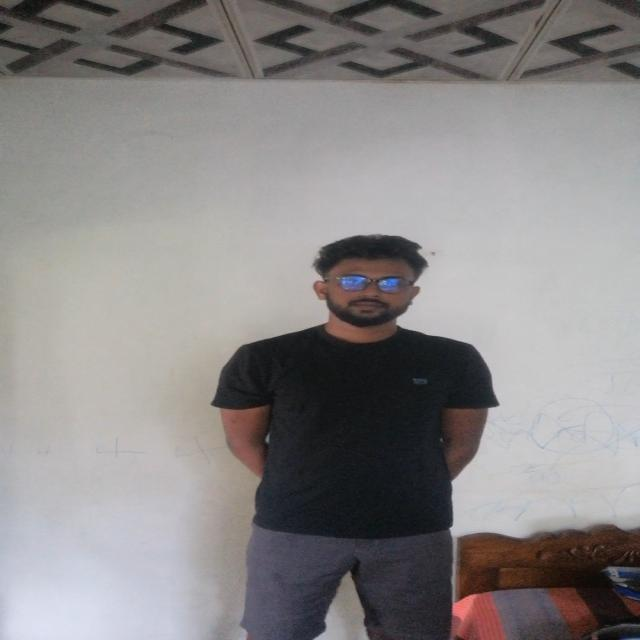Person: (210, 236, 496, 640)
